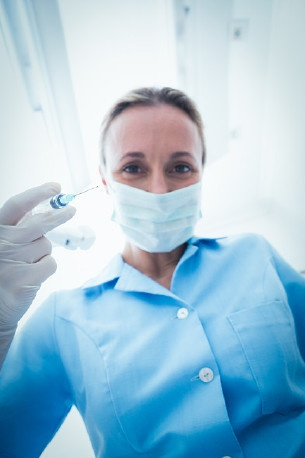Mask: (105, 148, 205, 248)
